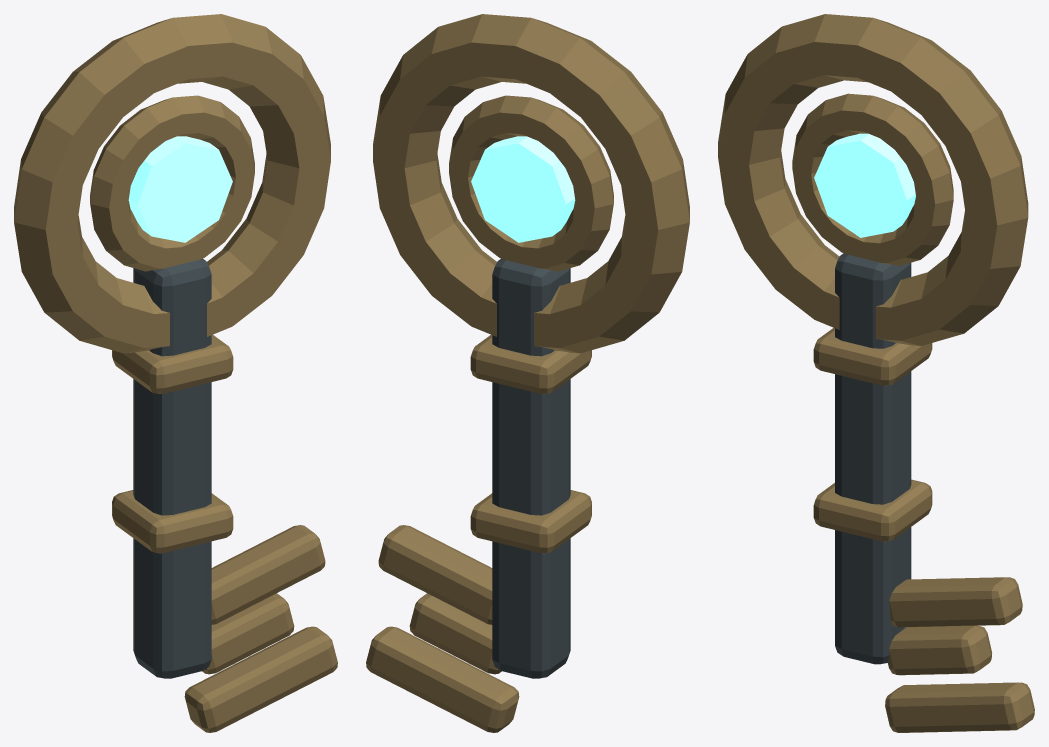
The model's file is wind_key.glb.
3 renders of one model, left to right at view 1: azimuth 30°, elevation 25°; view 2: azimuth 150°, elevation 25°; view 3: azimuth 330°, elevation 25°, orthographic. The views are drawn at different scales.
Parts seen in each view (by area): view 1: WindKey; view 2: WindKey; view 3: WindKey.
Part boxes in pixels (bbox=[...]): WindKey: bbox=[14, 14, 337, 732]; WindKey: bbox=[366, 14, 689, 732]; WindKey: bbox=[718, 14, 1034, 732].
Bounding box in the file's own units: 0.5003 × 1.08 × 0.13.
